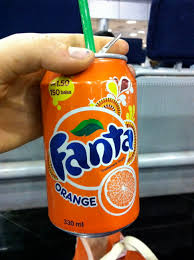fanta: (41, 52, 140, 231)
